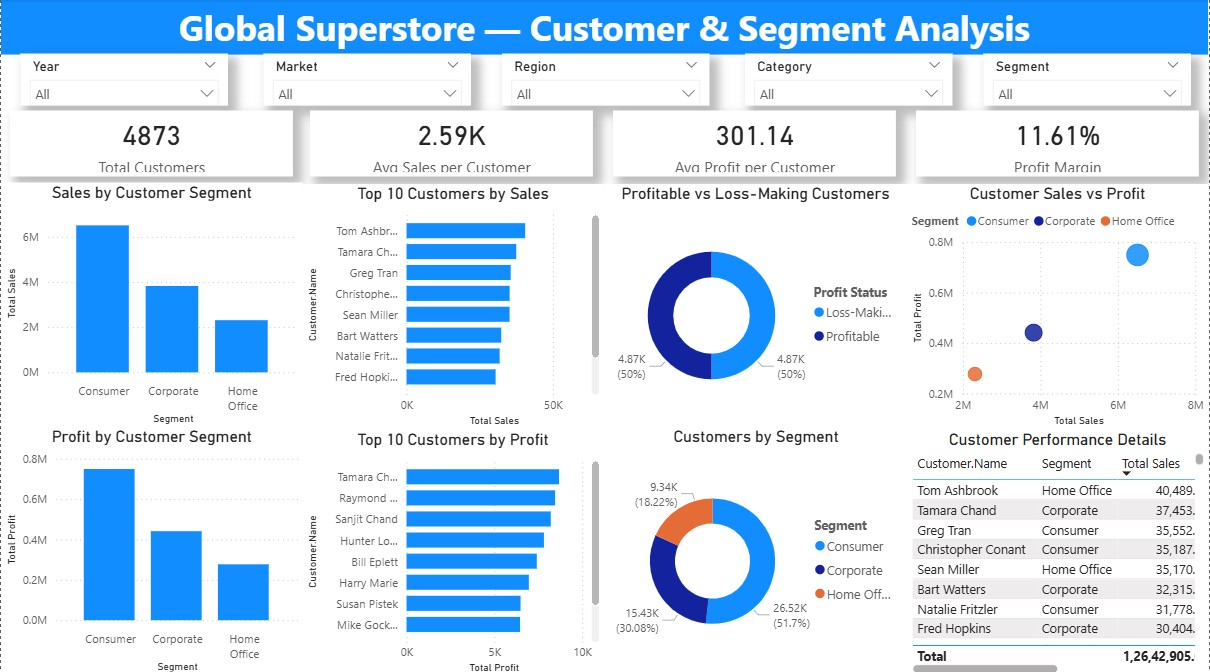

This screenshot's page, from the dashboard's own definition file:
{"tool":"powerbi","page":{"name":"Customer Analysis","canvas":[1280,720],"ordinal":2},"visuals":[{"type":"textbox","box":[0,0,1280,60],"z":0},{"type":"slicer","fields":{"Values":["DateTable.Year"]},"box":[20.6,58.6,220,55],"z":1},{"type":"slicer","fields":{"Values":["superstore.Market"]},"box":[278.9,58.6,220,55],"z":2},{"type":"slicer","fields":{"Values":["superstore.Region"]},"box":[530.6,58.6,220,55],"z":3},{"type":"slicer","fields":{"Values":["superstore.Category"]},"box":[788.9,58.6,220,55],"z":4},{"type":"slicer","fields":{"Values":["superstore.Segment"]},"box":[1042.3,58.6,220,55],"z":5},{"type":"card","fields":{"Values":["DateTable.Total Customers"]},"box":[10,120,300,70],"z":6},{"type":"card","fields":{"Values":["DateTable.Avg Sales per Customer"]},"box":[328.3,120,300,70],"z":7},{"type":"card","fields":{"Values":["DateTable.Avg Profit per Customer"]},"box":[648.3,120,300,70],"z":8},{"type":"card","fields":{"Values":["DateTable.Profit Margin"]},"box":[970,120,300,70],"z":9},{"type":"clusteredColumnChart","title":"Sales by Customer Segment","fields":{"Y":["DateTable.Total Sales"],"Category":["superstore.Segment"]},"box":[0,195.6,320,261],"z":10},{"type":"clusteredColumnChart","title":"Profit by Customer Segment","fields":{"Category":["superstore.Segment"],"Y":["DateTable.Total Profit"]},"box":[0,455.4,320,264.6],"z":11},{"type":"clusteredBarChart","title":"Top 10 Customers by Sales","fields":{"Category":["superstore.Customer.Name"],"Y":["DateTable.Total Sales"]},"box":[319.4,196.5,319.4,260.8],"z":12},{"type":"clusteredBarChart","title":"Top 10 Customers by Profit","fields":{"Category":["superstore.Customer.Name"],"Y":["DateTable.Total Profit"]},"box":[319.4,457.3,319.4,262.7],"z":13},{"type":"scatterChart","title":"Customer Sales vs Profit","fields":{"X":["DateTable.Total Sales"],"Y":["DateTable.Total Profit"],"Size":["DateTable.Total Orders"],"Series":["superstore.Segment"]},"box":[960,196.5,319.4,260.8],"z":14},{"type":"donutChart","title":"Profitable vs Loss-Making Customers","fields":{"Category":["Customer Analysis.Profit Status"],"Y":["Count(superstore.Customer.ID)"]},"box":[638.7,196.5,321.3,258.9],"z":15},{"type":"donutChart","title":"Customers by Segment","fields":{"Y":["CountNonNull(superstore.Customer.ID)"],"Category":["superstore.Segment"]},"box":[640.6,455.4,319.4,264.6],"z":16},{"type":"tableEx","title":"Customer Performance Details","fields":{"Values":["superstore.Customer.Name","superstore.Segment","DateTable.Total Sales","DateTable.Total Profit","DateTable.Profit Margin","DateTable.Total Orders"]},"box":[960,457.3,319.4,262.7],"z":17}]}

Visuals, with their boxes in screenshot pixels (x1, y1, x2, y2), scaled from the page's 1280x720 canvas onto the 1210x672 screenshot:
textbox: 0/0/1209/56
slicer - DateTable.Year: 19/55/227/106
slicer - superstore.Market: 264/55/472/106
slicer - superstore.Region: 502/55/710/106
slicer - superstore.Category: 746/55/954/106
slicer - superstore.Segment: 985/55/1193/106
card - DateTable.Total Customers: 9/112/293/177
card - DateTable.Avg Sales per Customer: 310/112/594/177
card - DateTable.Avg Profit per Customer: 613/112/896/177
card - DateTable.Profit Margin: 917/112/1201/177
"Sales by Customer Segment" clusteredColumnChart: 0/183/302/426
"Profit by Customer Segment" clusteredColumnChart: 0/425/302/671
"Top 10 Customers by Sales" clusteredBarChart: 302/183/604/427
"Top 10 Customers by Profit" clusteredBarChart: 302/427/604/671
"Customer Sales vs Profit" scatterChart: 908/183/1209/427
"Profitable vs Loss-Making Customers" donutChart: 604/183/908/425
"Customers by Segment" donutChart: 606/425/908/671
"Customer Performance Details" tableEx: 908/427/1209/671
